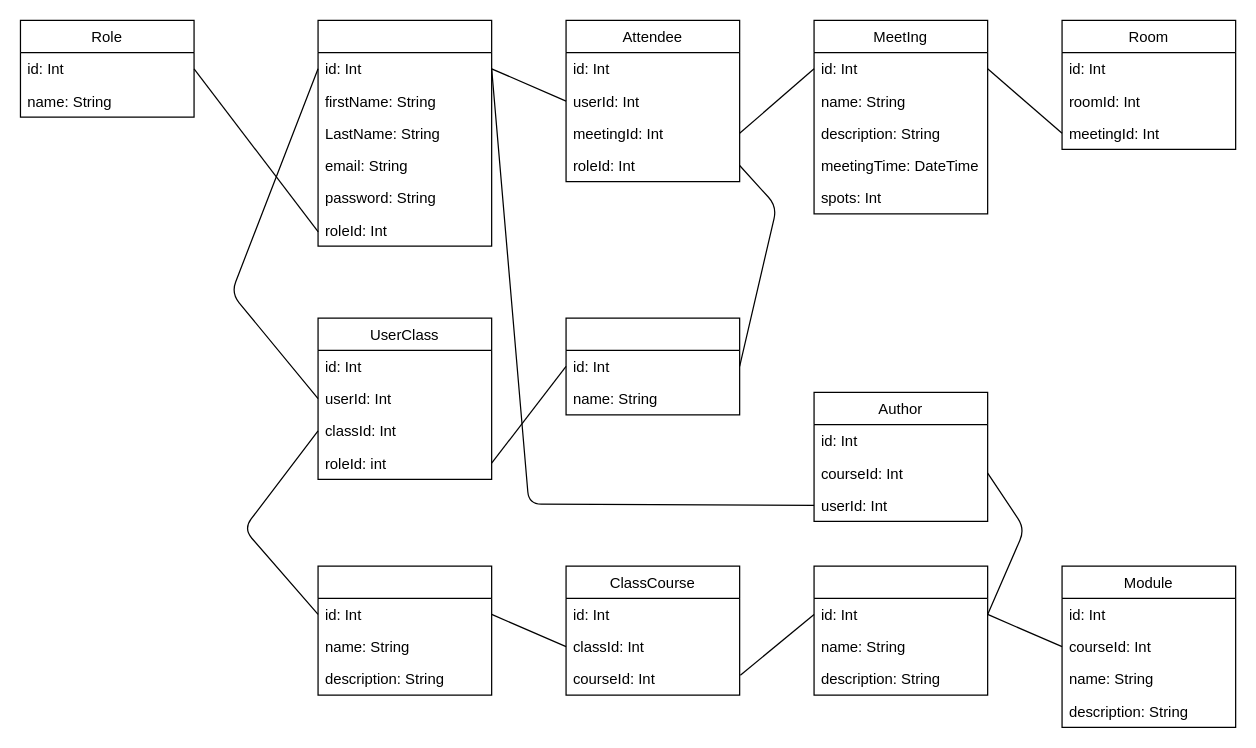
This 1256x748 diagram has some shape labels left out. The box of each missing label's shape, as (x1, y1, x2, y2) in pixels:
Class: (317, 565, 492, 695)
ClassRole: (565, 317, 740, 415)
Course: (813, 565, 988, 695)
User: (317, 19, 492, 246)
